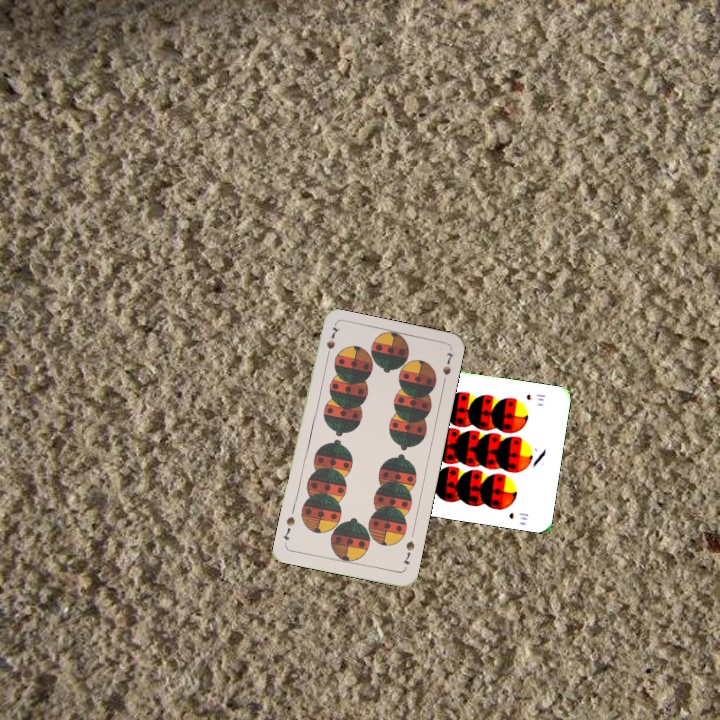S10: (522, 390, 548, 403)
S7: (322, 323, 341, 363), (399, 537, 417, 567)
